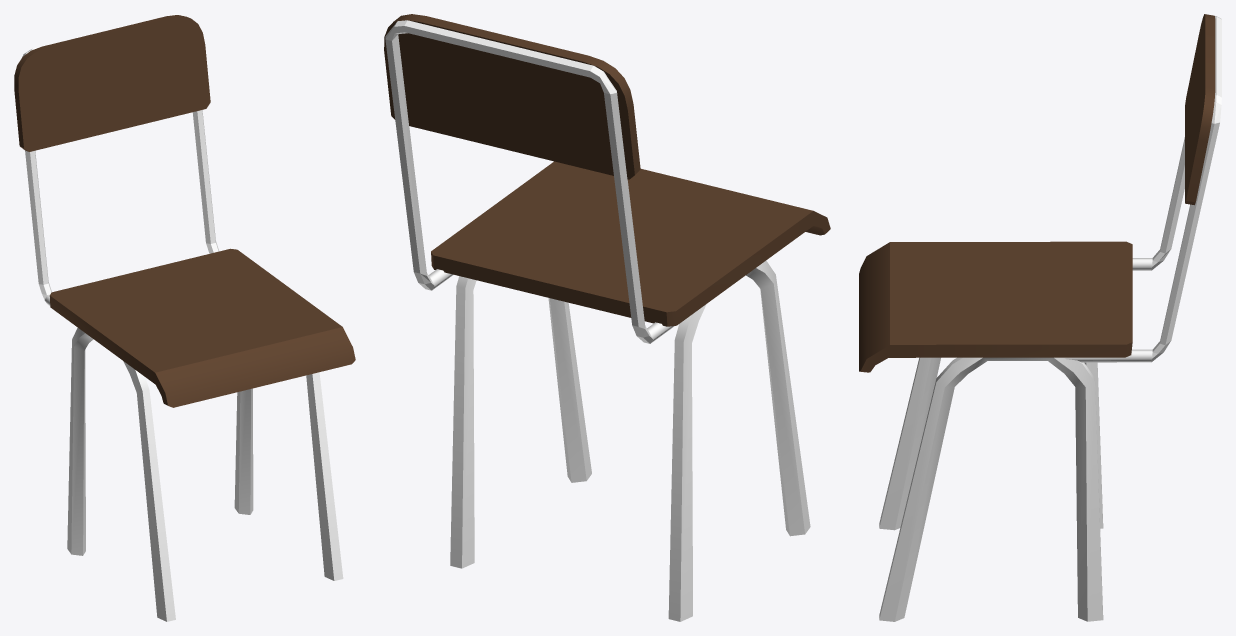
The model's file is chair(student).FBX.
3 renders of one model, left to right at view 1: azimuth 30°, elevation 25°; view 2: azimuth 150°, elevation 25°; view 3: azimuth 270°, elevation 25°, orthographic. The views are drawn at different scales.
Parts seen in each view (by area): view 1: Box003; view 2: Box003; view 3: Box003.
Boxes of the visible parts, <box> form: Box003: <box>14,14,355,621</box>; Box003: <box>384,14,830,621</box>; Box003: <box>859,14,1221,621</box>.
Bounding box in the file's own units: 41.47 × 97.3 × 61.74.
